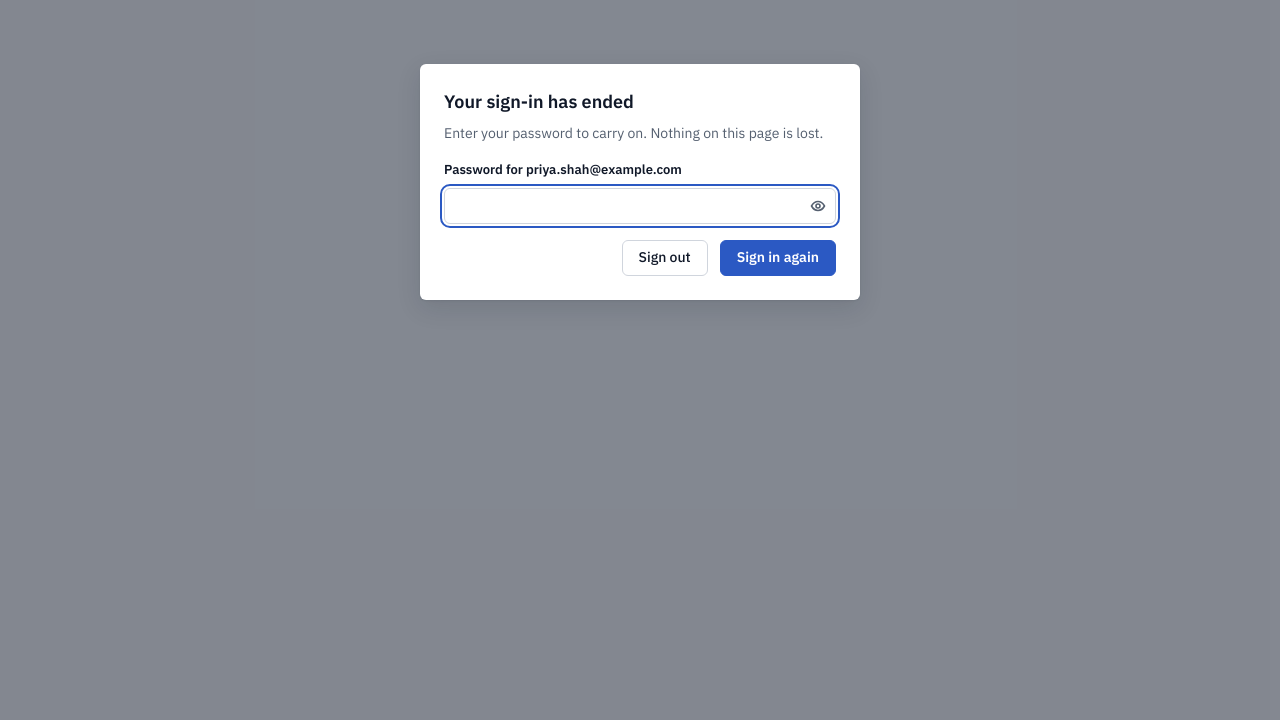
the sign-in pause note (D-M3-13) › is shown in the dialog that opens after 12 hours, after a failed attempt
In the password field labelled "Password": (640, 206) [444,188,836,224], type "wrong"
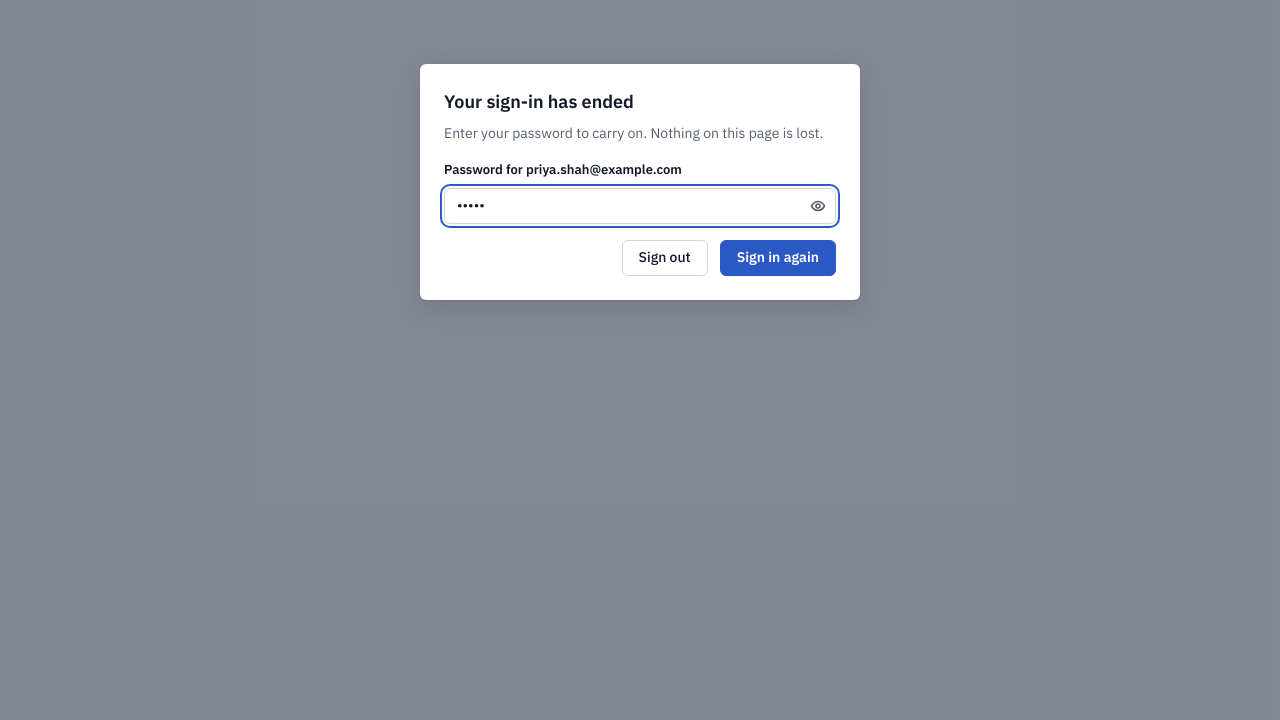
Click the button "Sign in again": (778, 258) [720,240,836,276]
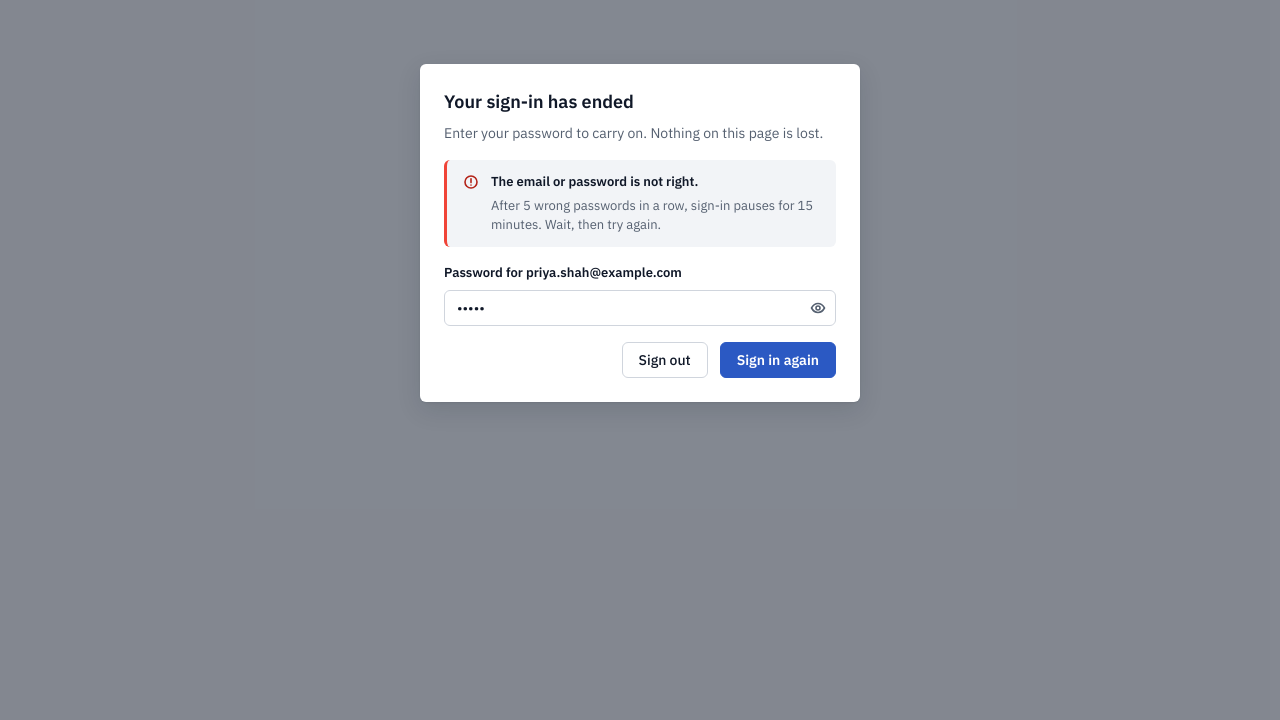
Expected: the message is shown, [444,160,836,246]
Expected: the text with test id "pause-note" shows "After 5 wrong passwords in a row, sign-in pauses for 15 minutes. Wait, then try again.", [491,196,813,233]
